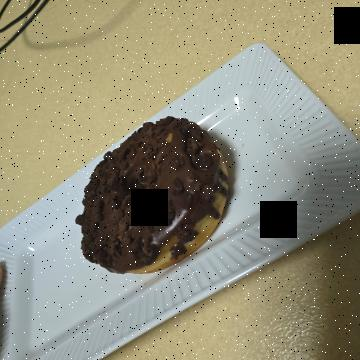doughnut: (116, 120, 294, 300)
